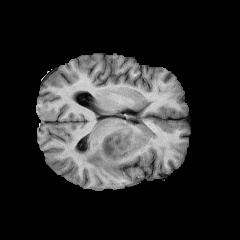glioma: (81, 122, 129, 176)
